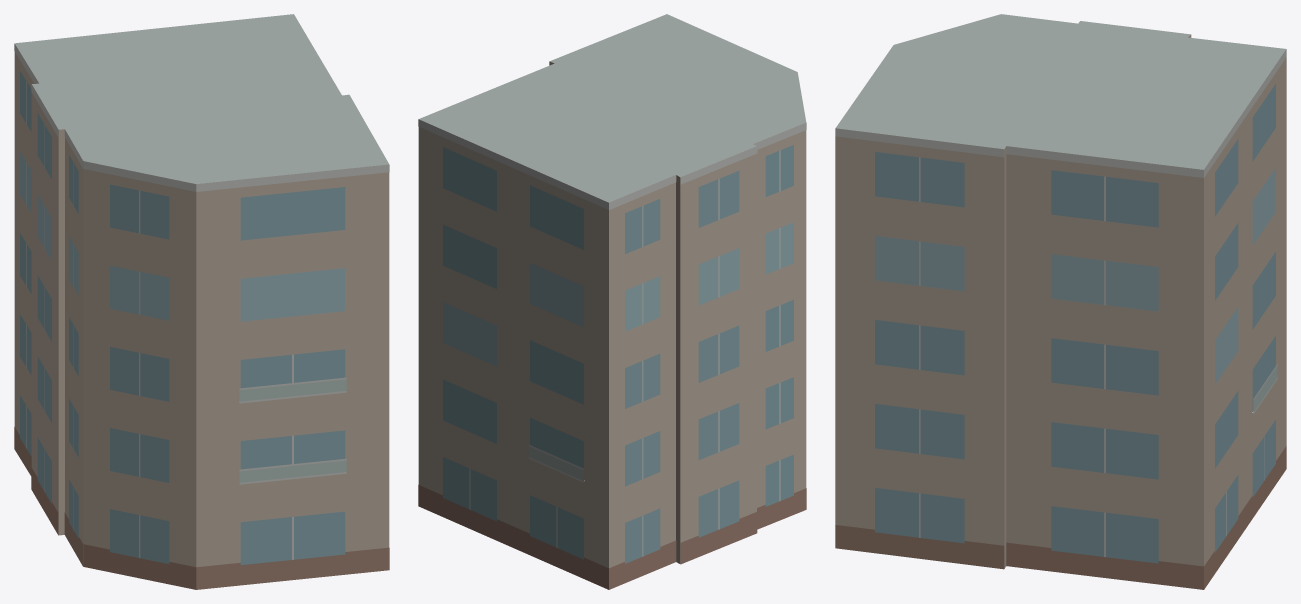
The model's file is survey-upis-32703000.glb.
The picture shows the model from 3 angles, left to right: view 1: azimuth 30°, elevation 25°; view 2: azimuth 150°, elevation 25°; view 3: azimuth 270°, elevation 25°; orthographic projection. The views are drawn at different scales.
Visible parts, largest first — view 1: survey-upis-32703000.tmp; view 2: survey-upis-32703000.tmp; view 3: survey-upis-32703000.tmp.
Part boxes in pixels (box(x1,y1,x2,y2)): survey-upis-32703000.tmp: box(14, 14, 389, 589); survey-upis-32703000.tmp: box(418, 14, 806, 589); survey-upis-32703000.tmp: box(835, 14, 1286, 589).
Bounding box in the file's own units: 10.14 × 12.72 × 12.39.
